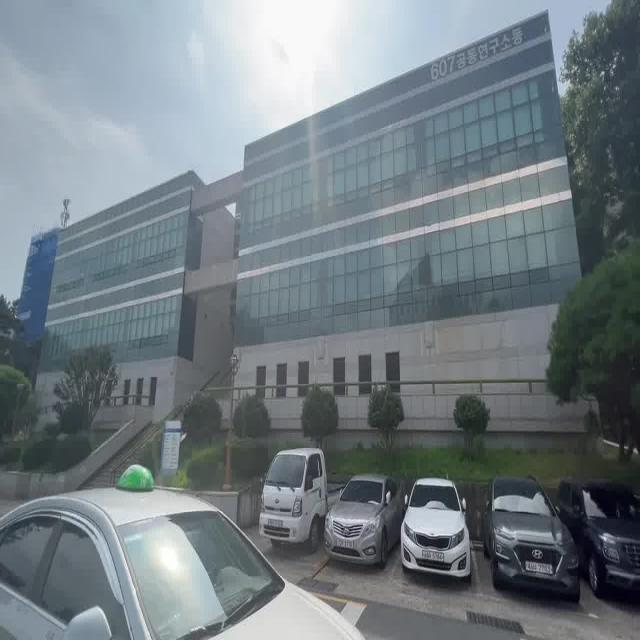building: (74, 37, 565, 420)
